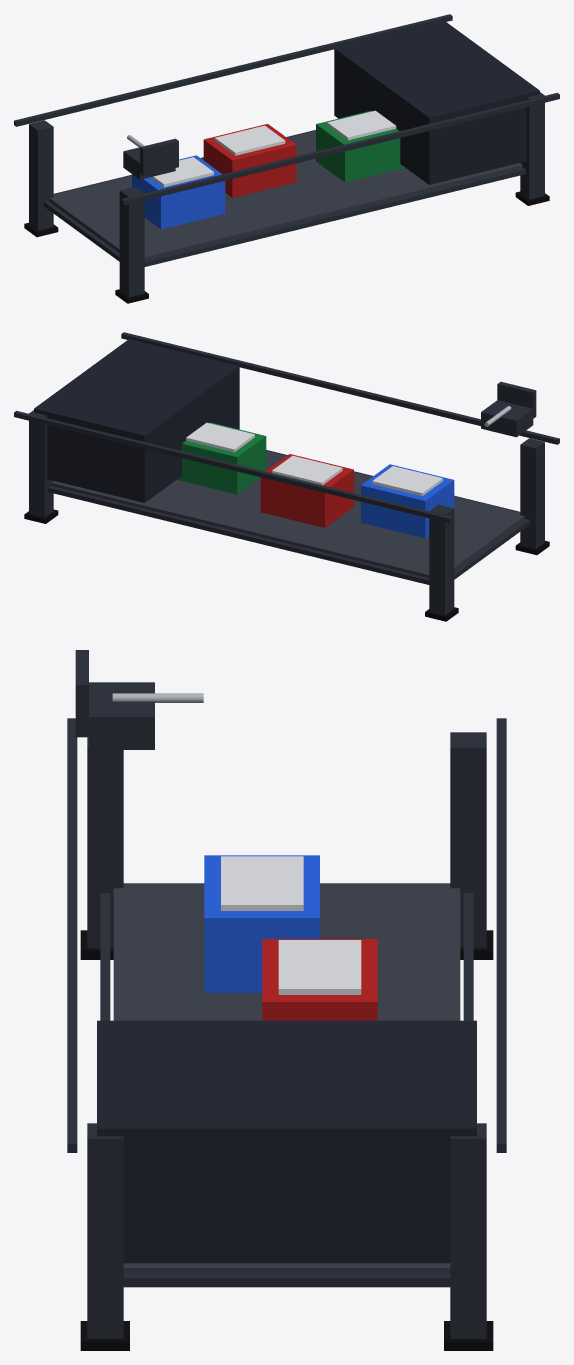
The model's file is bench.glb.
3 renders of one model, top to bottom at view 1: azimuth 30°, elevation 25°; view 2: azimuth 150°, elevation 25°; view 3: azimuth 270°, elevation 25°, orthographic. The views are drawn at different scales.
Visible parts, largest first — view 1: bench; view 2: bench; view 3: bench.
Boxes of the visible parts, x1=… form: bench: x1=14, y1=14, x2=559, y2=303; bench: x1=14, y1=332, x2=559, y2=621; bench: x1=67, y1=650, x2=506, y2=1350.
Bounding box in the file's own units: 6.1 × 2.03 × 2.66.
